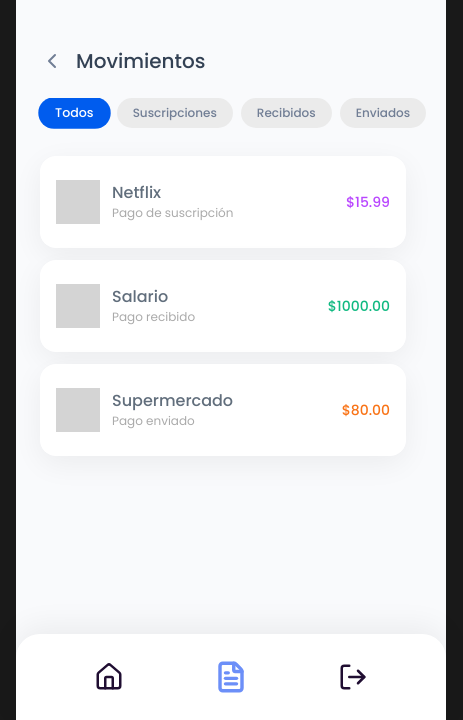
Scenario: MovementsPage › filters by CASH_IN
Click the button "Recibidos".
click(286, 113)  # box [241,98,332,128]
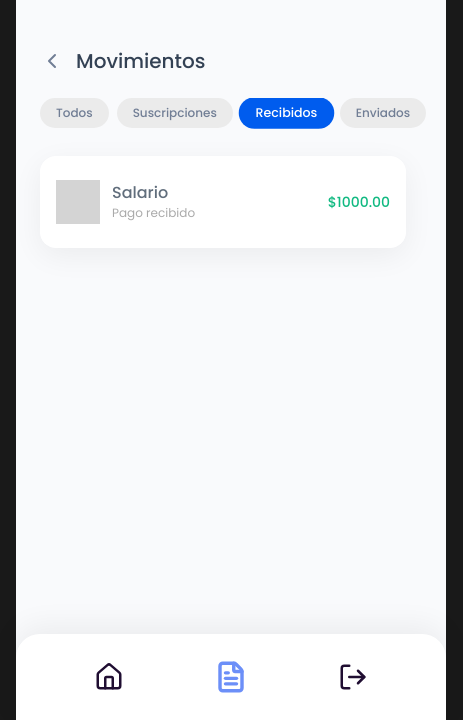
Expected: the text "Salario" is shown, [112,181,168,204]
Now the text "Netflix" is gone
